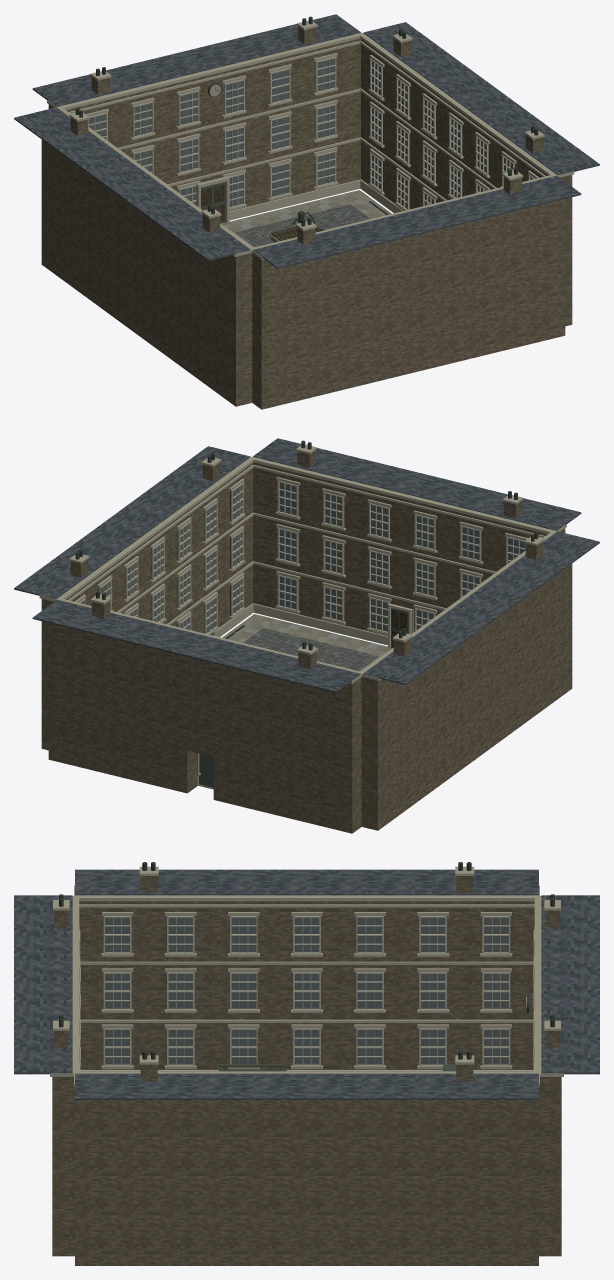
File: workhouse-courtyard.glb
3 renders of one model, top to bottom at view 1: azimuth 30°, elevation 25°; view 2: azimuth 150°, elevation 25°; view 3: azimuth 270°, elevation 25°, orthographic. The views are drawn at different scales.
Parts seen in each view (by area): view 1: Stock brick, Slate, Stone, Trim, Glass, Paving, Setts, Timber, Iron, Recess; view 2: Stock brick, Slate, Stone, Trim, Glass, Paving, Setts, Paint, Recess, Iron; view 3: Stock brick, Slate, Stone, Glass, Trim, Iron, Paint.
Boxes of the visible parts, x1,y1,x2,y2 form: Stock brick: (41, 26, 572, 409); Slate: (14, 14, 599, 268); Stone: (47, 20, 574, 259); Trim: (88, 56, 534, 210); Glass: (89, 58, 532, 208); Paving: (221, 190, 391, 247); Setts: (235, 204, 370, 246); Timber: (201, 184, 323, 240); Iron: (75, 16, 538, 237); Recess: (135, 67, 515, 214); Stock brick: (41, 450, 572, 833); Slate: (14, 438, 599, 692); Stone: (39, 444, 566, 785); Trim: (79, 480, 525, 773); Glass: (81, 482, 524, 632); Paving: (198, 614, 390, 789); Setts: (243, 628, 378, 670); Paint: (199, 607, 408, 787); Recess: (98, 491, 478, 772); Iron: (75, 440, 538, 650); Stock brick: (52, 876, 561, 1265); Slate: (14, 869, 599, 1099); Stone: (50, 866, 563, 1086); Glass: (105, 917, 508, 1064); Trim: (79, 916, 534, 1070); Iron: (59, 862, 554, 1070); Paint: (219, 1064, 456, 1071).
Bounding box in the file's own units: 24 × 10.37 × 26.
11 materials, 5 textured.
